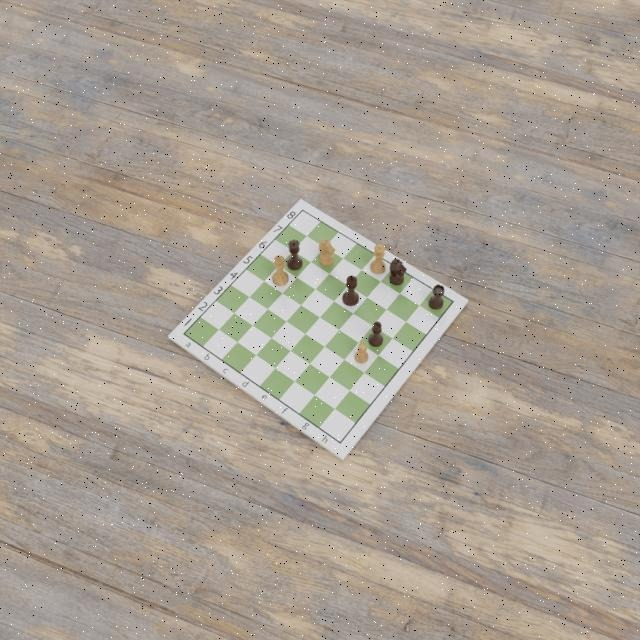black-bishop: (368, 320, 383, 347)
black-king: (341, 274, 359, 305)
black-knight: (389, 259, 407, 285)
black-queen: (287, 239, 304, 270)
black-rook: (427, 284, 444, 311)
white-king: (271, 254, 289, 286)
white-knight: (318, 237, 336, 267)
white-pawn: (354, 343, 369, 364)
white-queen: (370, 241, 386, 274)
